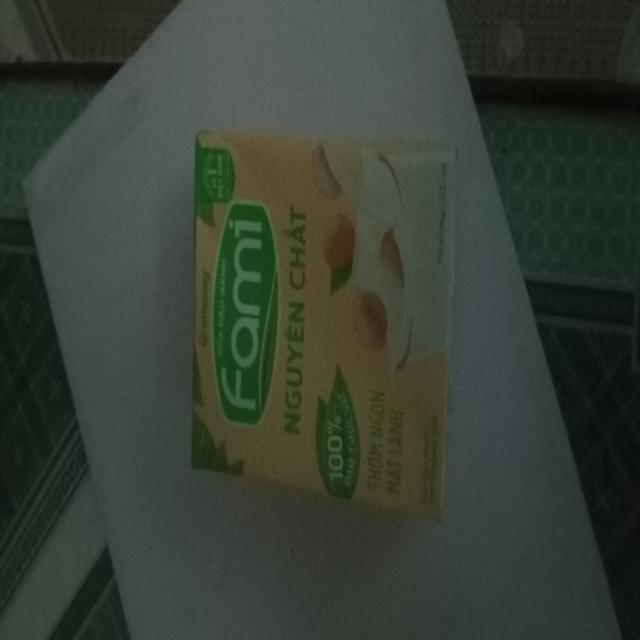Fami: (194, 132, 456, 523)
